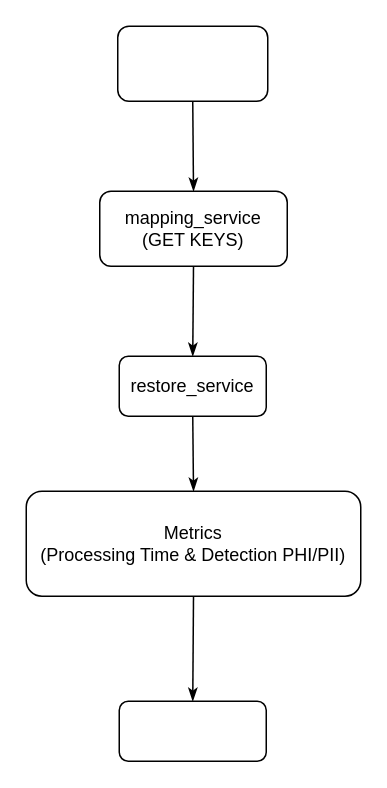
Some shapes in this 387 by 788 pixel diagram are drawn without their labels. Here are the shapes that lost their labels. From the top down, the centre of each, then its label:
At pixel 192 63: "Input (Front-End)".
At pixel 192 730: "Response".
